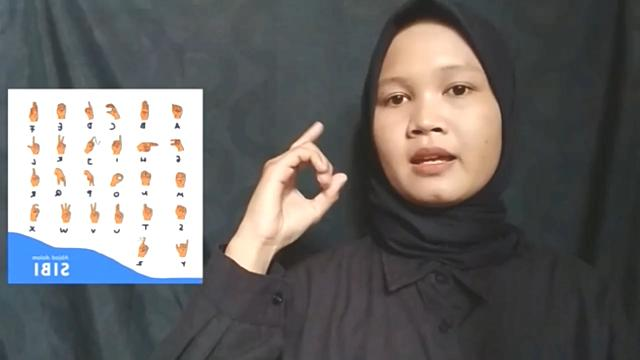D: (246, 120, 350, 244)
